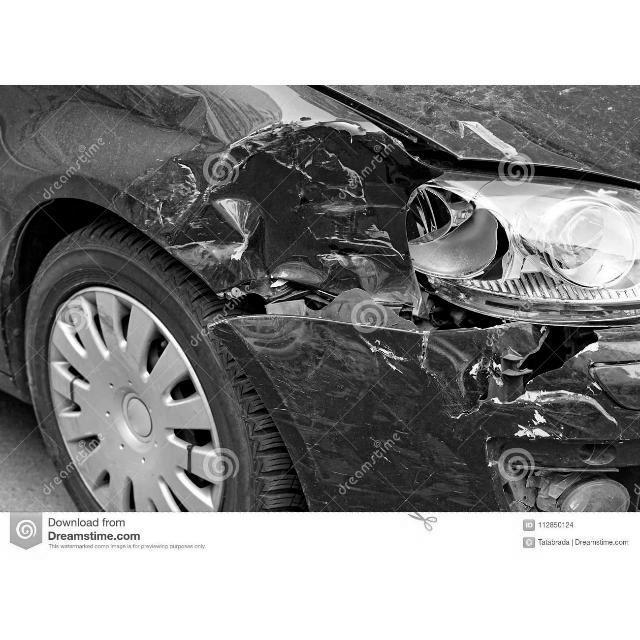Headlight-damage: (401, 140, 639, 355)
fender-dent: (1, 84, 400, 378)
front-bumper-dent: (193, 276, 640, 515)
